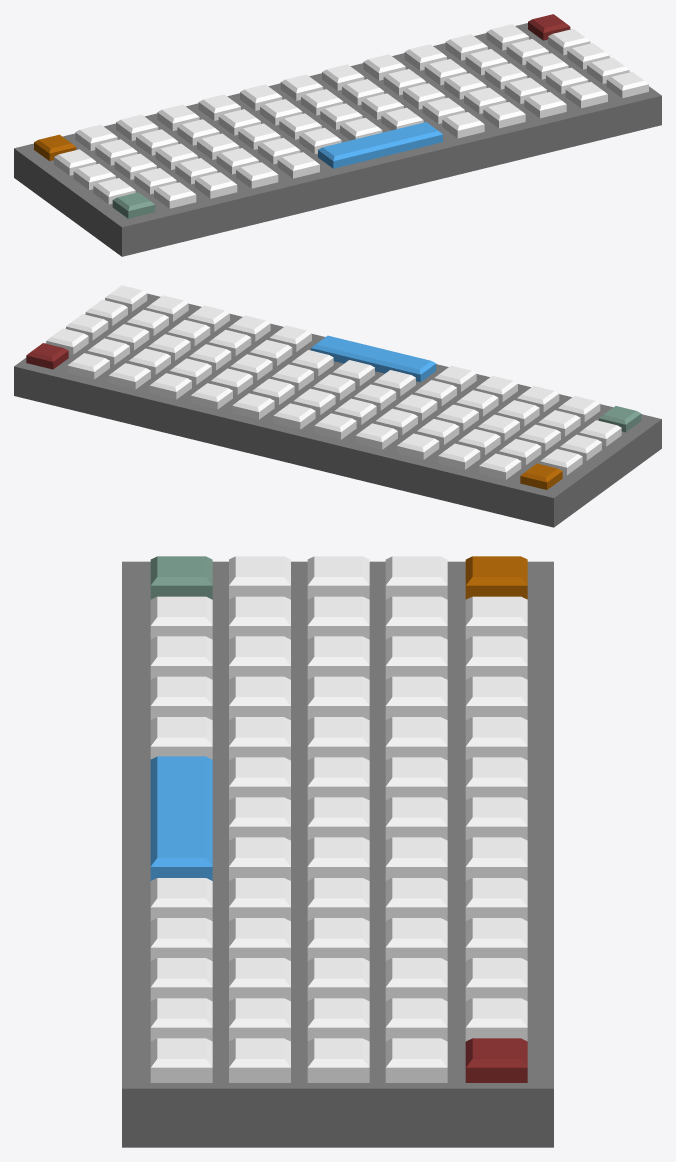
The model's file is Keyboard_2.fbx.
3 views of the same model, one above another, from view 1: azimuth 30°, elevation 25°; view 2: azimuth 150°, elevation 25°; view 3: azimuth 270°, elevation 25° (orthographic). The views are drawn at different scales.
Parts seen in each view (by area): view 1: Keyboard_2; view 2: Keyboard_2; view 3: Keyboard_2.
Part boxes in pixels (x1,y1,x2,y2): Keyboard_2: (14, 14, 661, 256); Keyboard_2: (14, 285, 661, 527); Keyboard_2: (122, 556, 553, 1147).
Bounding box in the file's own units: 0.2621 × 0.0186 × 0.0908.
